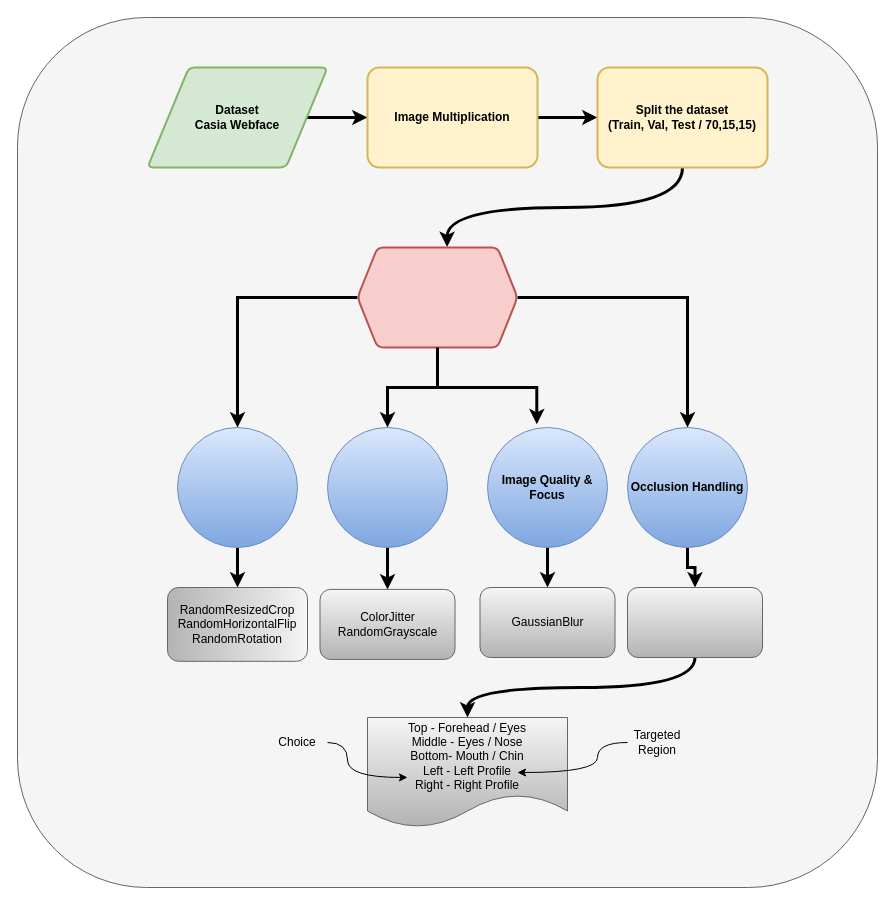
This 895x905 diagram has some shape labels left out. The shapes that lost their labels are listed below. From the top down, each one's centre as x and y in pixels, then its label:
(x=437, y=297): Data Augmentation (Online)
(x=237, y=487): Geometric & Spatial Variations
(x=387, y=487): Illumination & Color Robustness
(x=694, y=622): RandomFaceOcclusion
